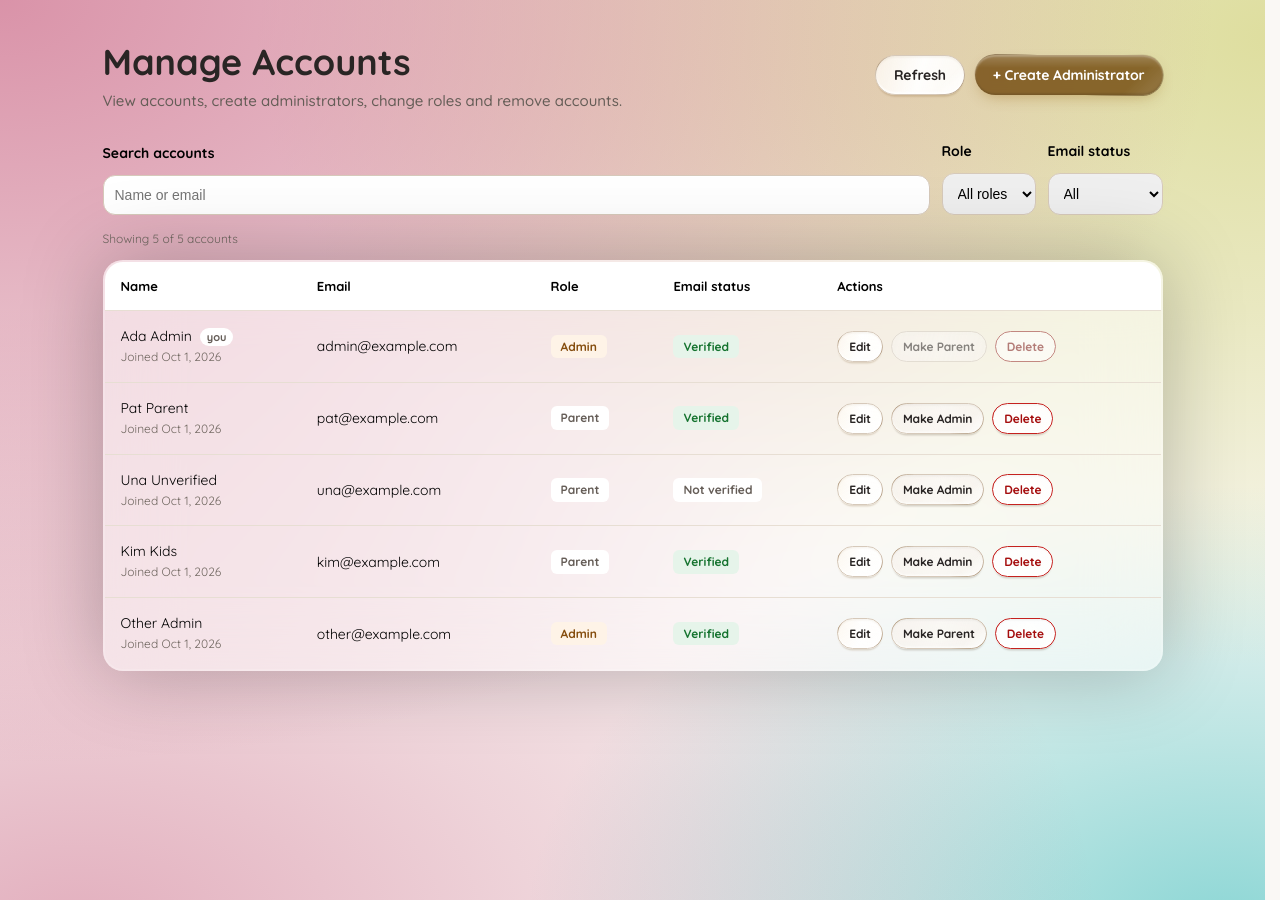
Manage Accounts: creating an administrator › opens a form with no role choice and says the account will be an administrator
Click the button "+ Create Administrator".
click(1069, 75)  # box top-left (975, 55), bottom-right (1162, 95)
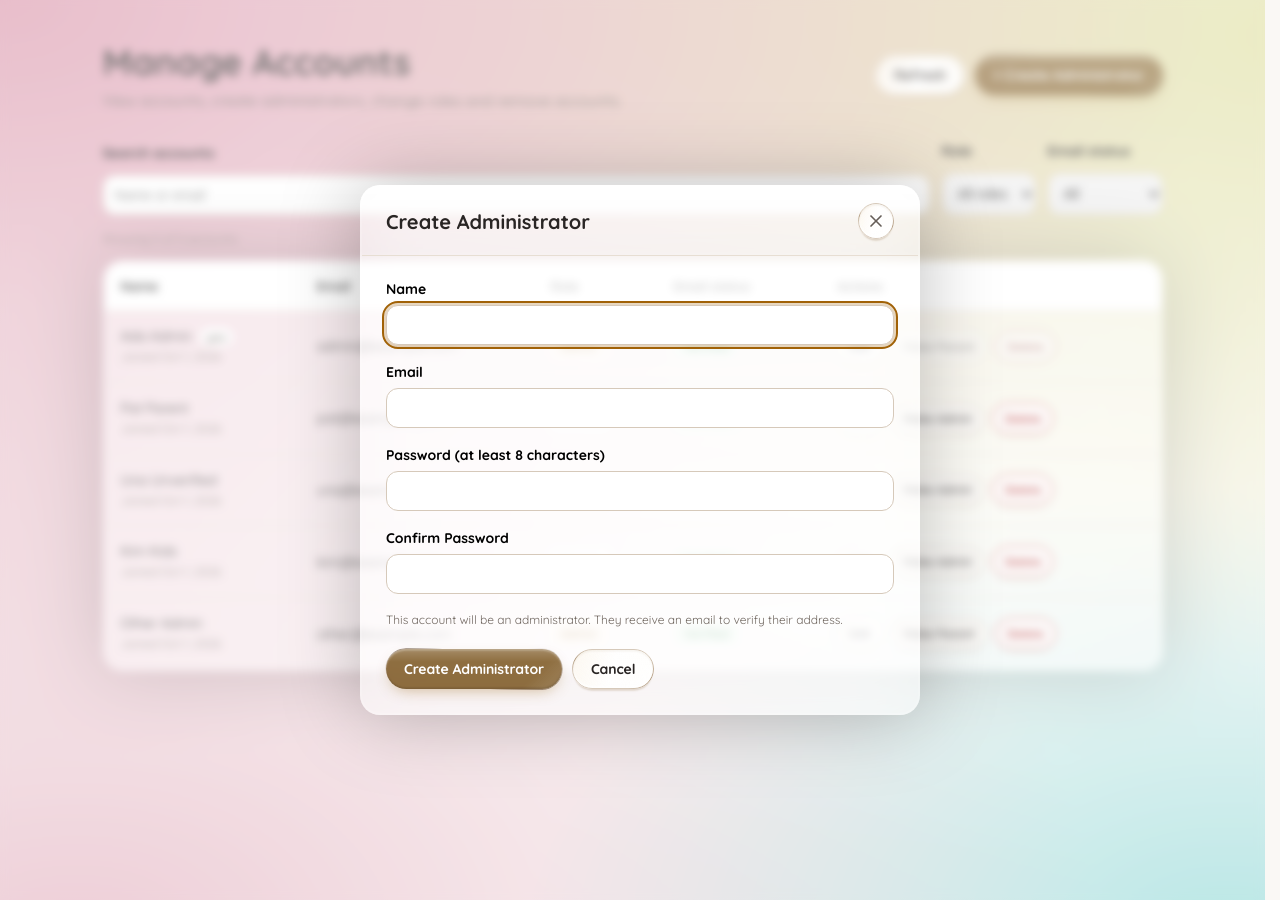
Check: the text "This account will be an administrator" is shown, box top-left (386, 612), bottom-right (843, 627)
